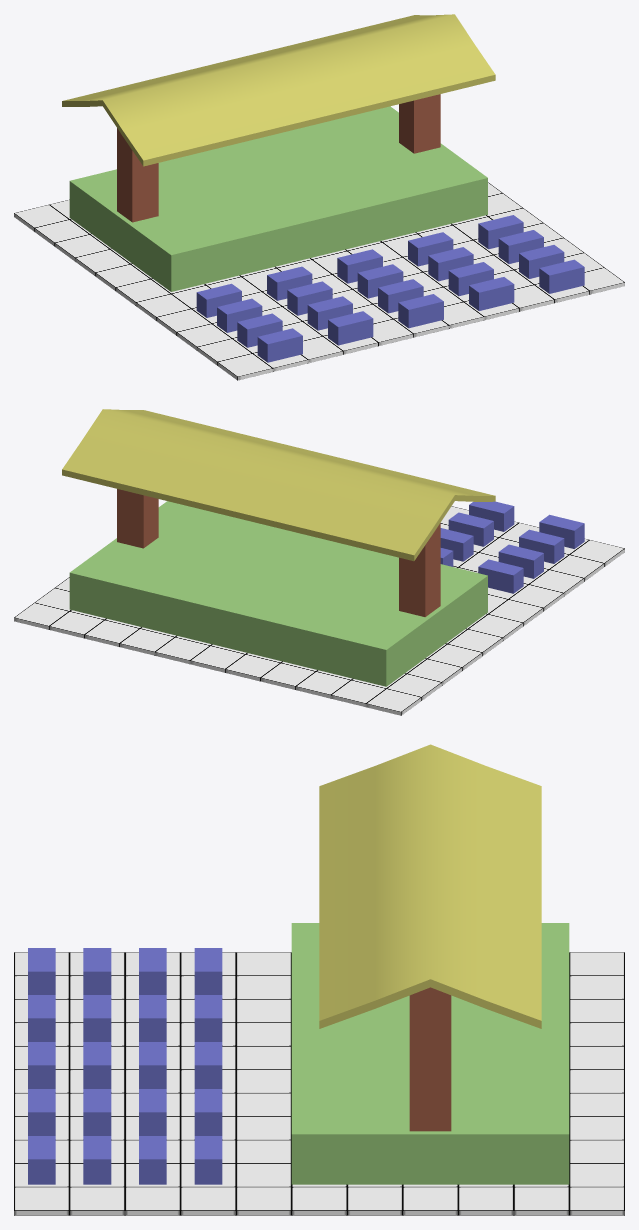
Rendered from XG_Theater.glb.
The picture shows the model from 3 angles, top to bottom: view 1: azimuth 30°, elevation 25°; view 2: azimuth 150°, elevation 25°; view 3: azimuth 270°, elevation 25°; orthographic projection. The views are drawn at different scales.
Parts seen in each view (by area): view 1: building_3m_3m_014, Plane001, building_3m_3m_013, building_3m_3m_012, Box011, Box015, Box019, Box027, Box023, Box021, Box012, Box013 (+29 smaller); view 2: building_3m_3m_014, Plane001, building_3m_3m_013, building_3m_3m_012, Box008, Box014, Box010, Box009, Box011, Box015, 1m_base_block_3360, 1m_base_block_3357 (+21 smaller); view 3: Plane001, building_3m_3m_014, building_3m_3m_012, 1m_base_block_3418, 1m_base_block_3420, 1m_base_block_3423, 1m_base_block_3417, 1m_base_block_3419, 1m_base_block_3421, 1m_base_block_3422, 1m_base_block_3424, 1m_base_block_3425 (+82 smaller).
Boxes of the visible parts, x1=… form: building_3m_3m_014: x1=69, y1=106, x2=487, y2=291; Plane001: x1=62, y1=14, x2=495, y2=166; building_3m_3m_013: x1=117, y1=128, x2=158, y2=222; building_3m_3m_012: x1=399, y1=94, x2=440, y2=153; Box011: x1=257, y1=328, x2=302, y2=362; Box015: x1=328, y1=311, x2=373, y2=345; Box019: x1=539, y1=259, x2=584, y2=293; Box027: x1=469, y1=277, x2=514, y2=310; Box023: x1=398, y1=294, x2=443, y2=328; Box021: x1=357, y1=264, x2=403, y2=298; Box012: x1=267, y1=266, x2=312, y2=300; Box013: x1=287, y1=281, x2=332, y2=315; building_3m_3m_014: x1=69, y1=501, x2=487, y2=686; Plane001: x1=62, y1=409, x2=495, y2=561; building_3m_3m_013: x1=399, y1=523, x2=440, y2=616; building_3m_3m_012: x1=117, y1=489, x2=158, y2=548; Box008: x1=478, y1=559, x2=523, y2=593; Box014: x1=448, y1=512, x2=493, y2=546; Box010: x1=519, y1=529, x2=564, y2=563; Box009: x1=498, y1=544, x2=543, y2=578; Box011: x1=539, y1=514, x2=584, y2=548; Box015: x1=469, y1=501, x2=514, y2=531; 1m_base_block_3360: x1=366, y1=688, x2=421, y2=715; 1m_base_block_3357: x1=295, y1=671, x2=350, y2=698; Plane001: x1=319, y1=744, x2=541, y2=1028; building_3m_3m_014: x1=291, y1=923, x2=569, y2=1184; building_3m_3m_012: x1=409, y1=987, x2=451, y2=1131; 1m_base_block_3418: x1=402, y1=1187, x2=458, y2=1215; 1m_base_block_3420: x1=291, y1=1187, x2=347, y2=1215; 1m_base_block_3423: x1=180, y1=1187, x2=236, y2=1215; 1m_base_block_3417: x1=458, y1=1187, x2=513, y2=1215; 1m_base_block_3419: x1=347, y1=1187, x2=402, y2=1215; 1m_base_block_3421: x1=236, y1=1187, x2=291, y2=1215; 1m_base_block_3422: x1=514, y1=1187, x2=569, y2=1215; 1m_base_block_3424: x1=125, y1=1187, x2=180, y2=1215; 1m_base_block_3425: x1=569, y1=1187, x2=624, y2=1215.
Size of the model in its own units: 11 by 4.46 by 11.
Materials: 5 (1 with a texture image).
